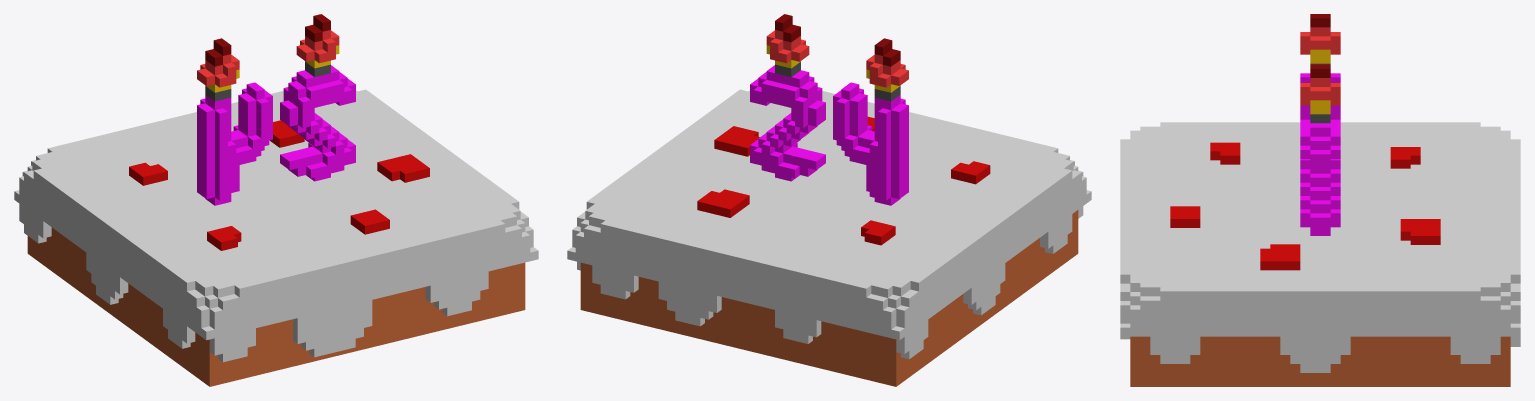
3 views of the same model, side by side, from view 1: azimuth 30°, elevation 25°; view 2: azimuth 150°, elevation 25°; view 3: azimuth 270°, elevation 25° (orthographic). The views are drawn at different scales.
Parts seen in each view (by area): view 1: _0; view 2: _0; view 3: _0.
Part boxes in pixels (x1,y1,x2,y2): _0: (14, 14, 538, 386); _0: (567, 14, 1091, 386); _0: (1120, 14, 1520, 386).
Size of the model in its own units: 0.06 by 0.0435 by 0.06.
